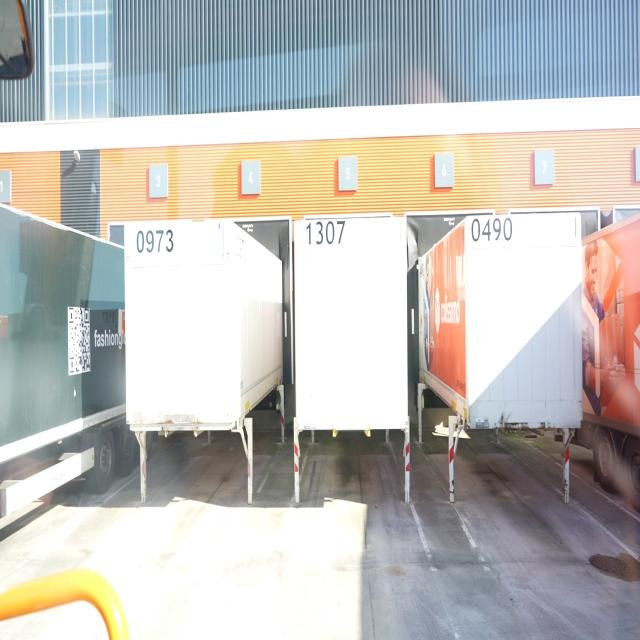Code: (467, 215, 516, 245), (134, 225, 176, 258), (306, 218, 349, 247)
